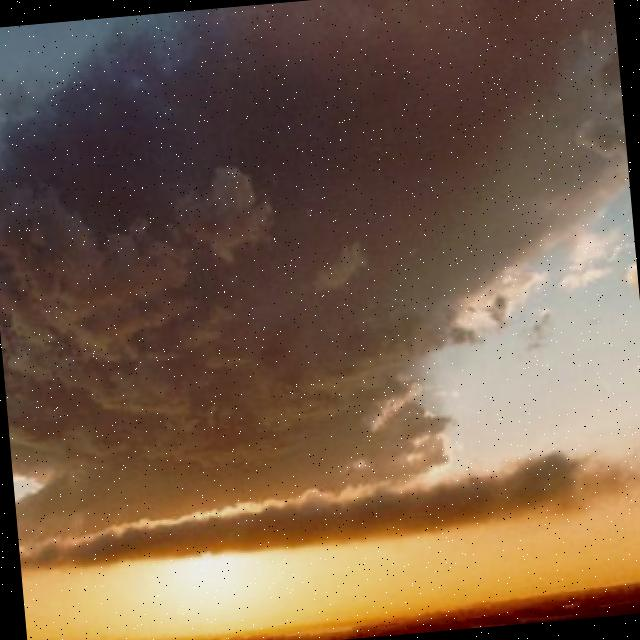St: (1, 1, 640, 528)
